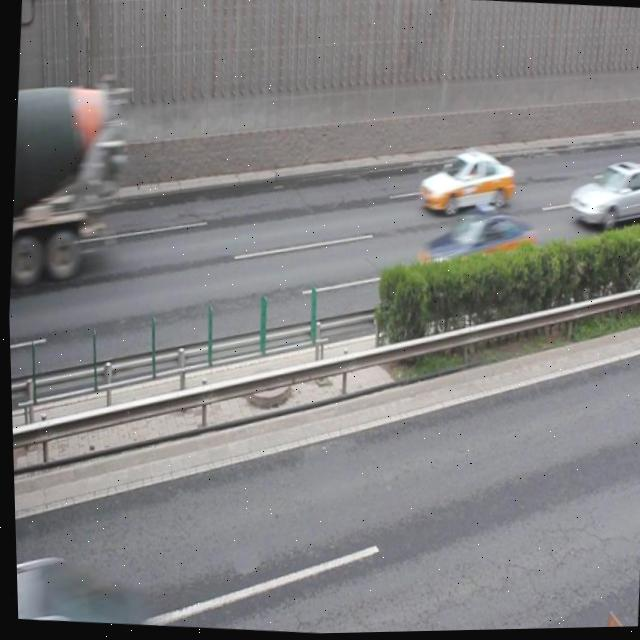bus: (4, 79, 114, 280)
car: (410, 203, 535, 302), (13, 554, 150, 628), (414, 142, 514, 220), (562, 155, 640, 235)
